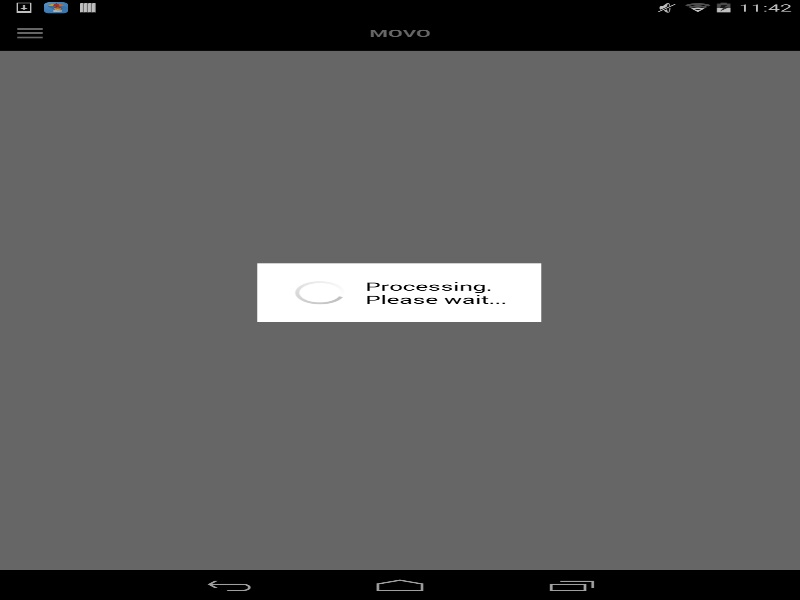Button: (13, 18, 98, 48), (701, 18, 786, 48), (316, 53, 338, 64), (364, 53, 386, 64), (413, 53, 435, 64), (462, 53, 484, 64), (766, 186, 786, 195), (386, 57, 413, 60), (435, 57, 462, 60), (338, 57, 364, 60)
Input: (16, 98, 786, 115), (16, 155, 786, 171), (16, 211, 786, 227), (70, 126, 786, 143), (102, 183, 752, 199), (136, 267, 786, 283), (147, 239, 786, 255)
